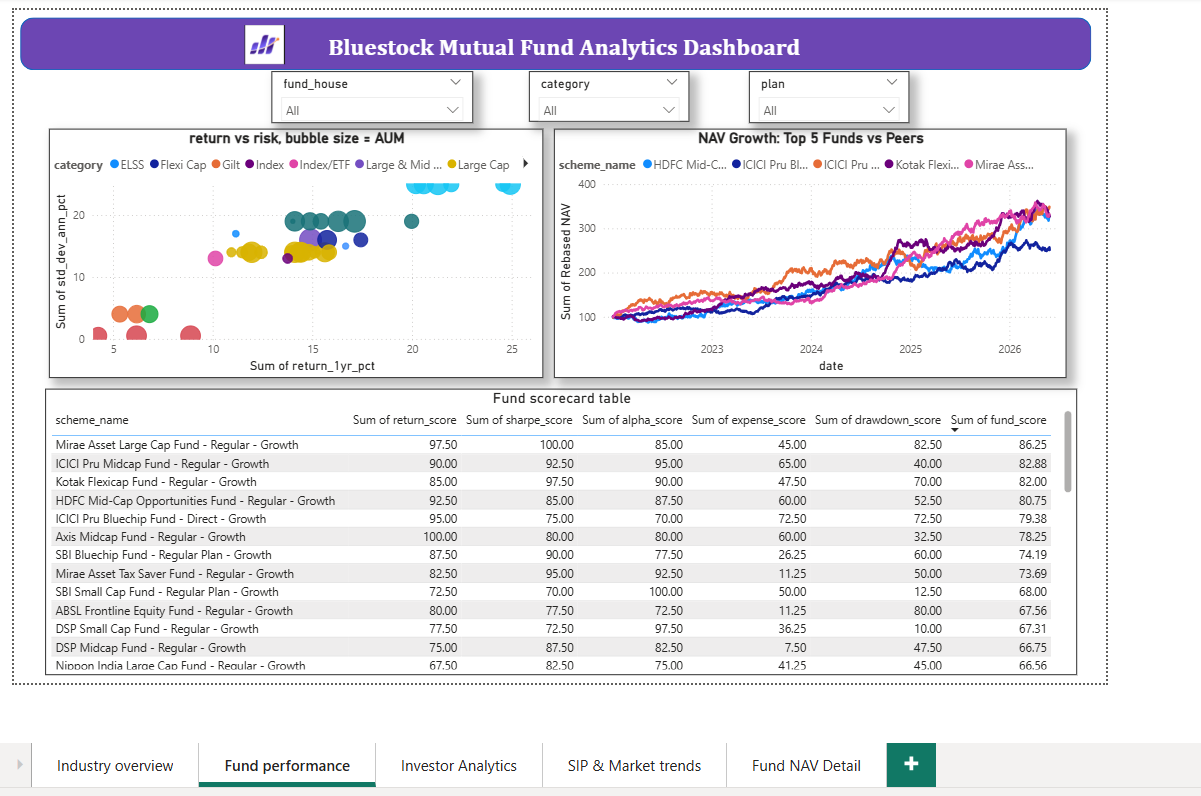

What the dashboard file says about the page in this screenshot:
{"tool":"powerbi","page":{"name":"Fund performance","canvas":[1249,770],"ordinal":1},"visuals":[{"type":"scatterChart","title":"return vs risk, bubble size = AUM","fields":{"X":["Sum(scheme_performance_clean.return_1yr_pct)"],"Y":["Sum(scheme_performance_clean.std_dev_ann_pct)"],"Size":["Sum(scheme_performance_clean.aum_crore)"],"Series":["scheme_performance_clean.category"],"Category":["scheme_performance_clean.scheme_name"]},"box":[40.5,136,564.9,285.1],"z":0},{"type":"tableEx","title":"Fund scorecard table","fields":{"Values":["fund_scorecard.scheme_name","Sum(fund_scorecard.return_score)","Sum(fund_scorecard.sharpe_score)","Sum(fund_scorecard.alpha_score)","Sum(fund_scorecard.expense_score)","Sum(fund_scorecard.drawdown_score)","Sum(fund_scorecard.fund_score)"]},"box":[35.3,432.9,1179.6,326.9],"z":1000},{"type":"lineChart","title":"NAV Growth: Top 5 Funds vs Peers","fields":{"Category":["nav_history_clean.date"],"Series":["scheme_performance_clean.scheme_name"],"Y":["Sum(nav_history_clean.Rebased NAV)"]},"box":[617.3,136,585.9,285.1],"z":2000},{"type":"slicer","fields":{"Values":["03_aum_by_fund_house.fund_house"]},"box":[294.2,70.6,230.2,58.8],"z":2001},{"type":"slicer","fields":{"Values":["01_fund_master.category"]},"box":[588.5,70.6,183.1,57.5],"z":2002},{"type":"slicer","fields":{"Values":["01_fund_master.plan"]},"box":[839.6,70.6,183.1,58.8],"z":2003},{"type":"shape","box":[7.8,9.2,1224.1,60.2],"z":2004},{"type":"textbox","box":[315.2,20.9,626.4,48.4],"z":2005},{"type":"image","box":[258.9,10.5,56.2,58.8],"z":2006}]}

Visuals, with their boxes on the page's 1249x770 design canvas (x1, y1, x2, y2). These are canvas units, not pixel positions in the 1201x796 screenshot, which may show the page scaled, cropped or inside an application window:
"return vs risk, bubble size = AUM" scatterChart: box=[40, 136, 605, 421]
"Fund scorecard table" tableEx: box=[35, 433, 1215, 760]
"NAV Growth: Top 5 Funds vs Peers" lineChart: box=[617, 136, 1203, 421]
slicer - 03_aum_by_fund_house.fund_house: box=[294, 71, 524, 129]
slicer - 01_fund_master.category: box=[588, 71, 772, 128]
slicer - 01_fund_master.plan: box=[840, 71, 1023, 129]
shape: box=[8, 9, 1232, 69]
textbox: box=[315, 21, 942, 69]
image: box=[259, 10, 315, 69]
